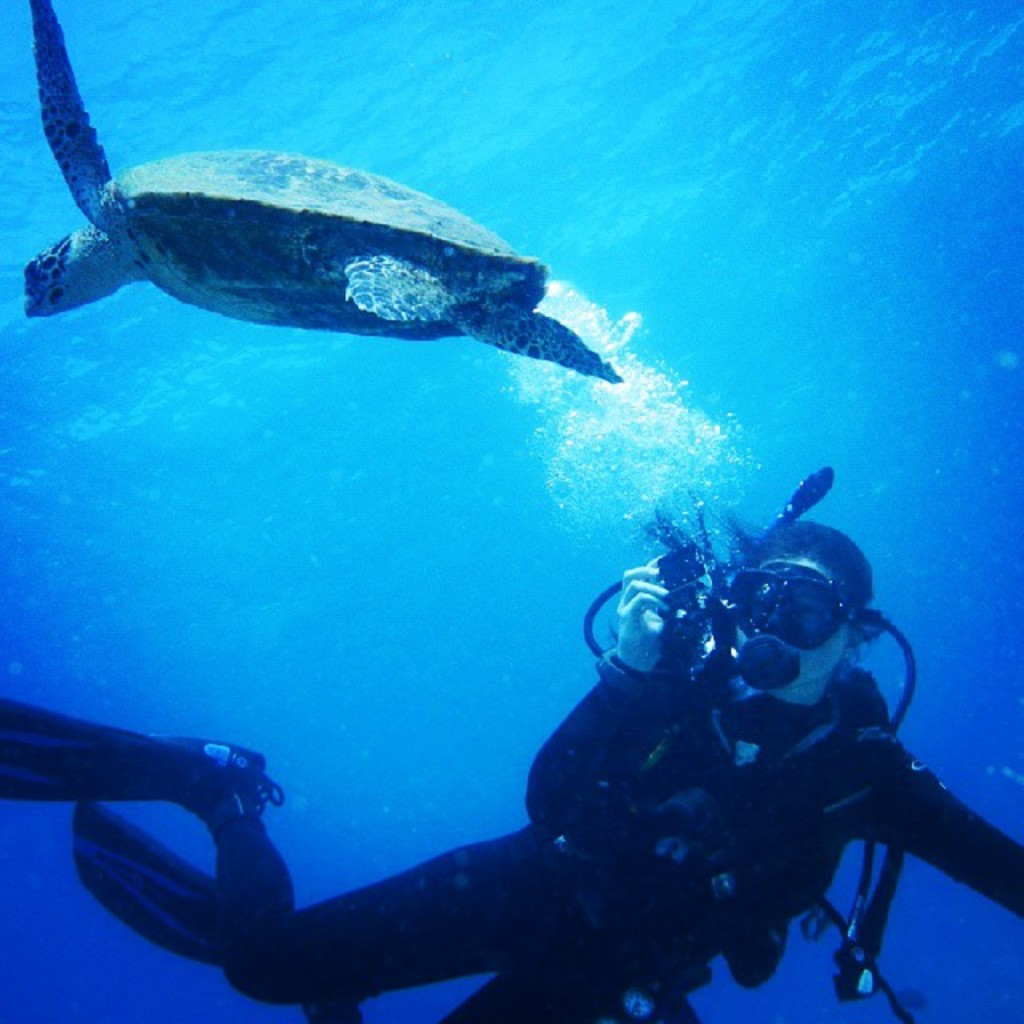Sea turtles: (22, 0, 617, 387)
